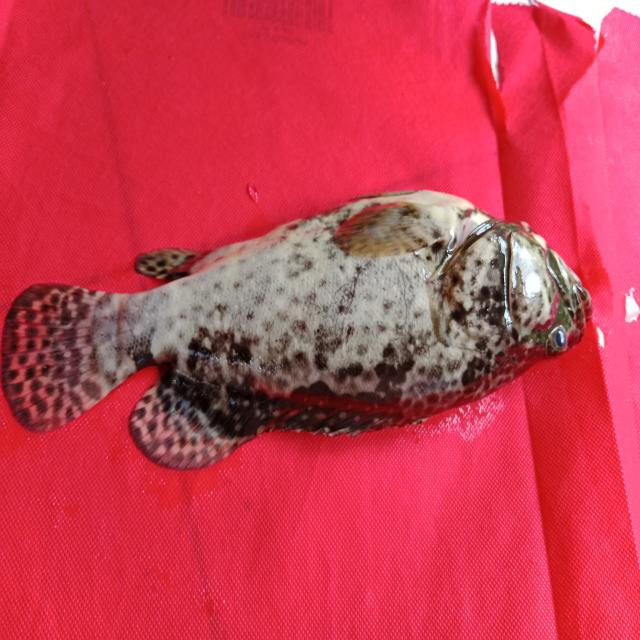ikan: (1, 187, 593, 471)
